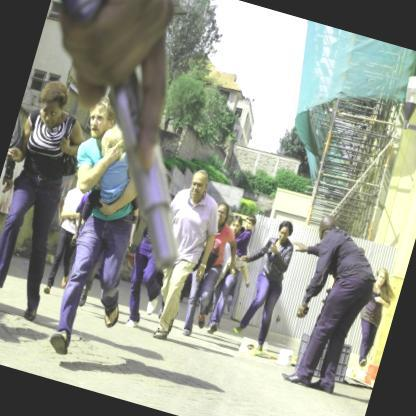rifle: (1, 0, 250, 276)
